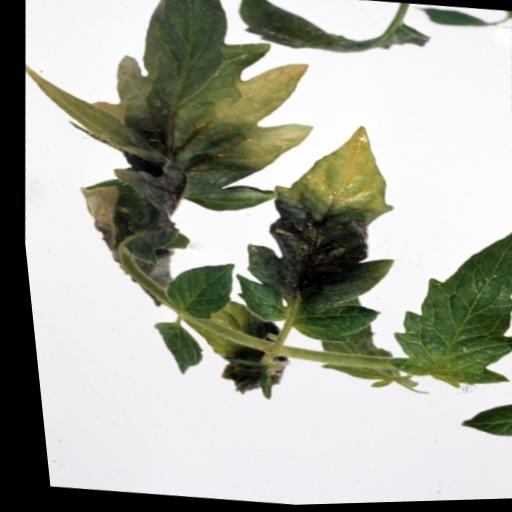Healthy: (355, 208, 512, 418)
Late Blight: (97, 0, 327, 223), (219, 111, 417, 349)
